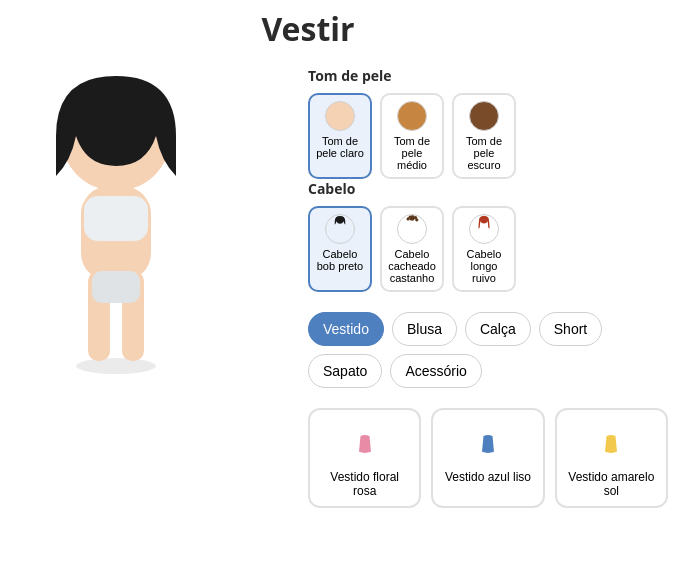
Fluxo de vestir o avatar (User Story 1) › selecionar um vestido substitui blusa e calça equipadas (FR-007)
Click the tab "Blusa": (424, 329) [392,312,457,346]
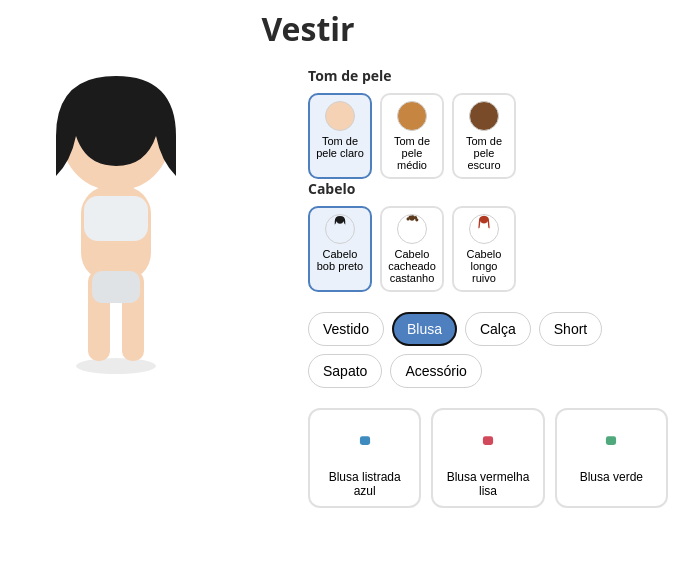
Click the button "Blusa listrada azul": (365, 458) [308,408,421,508]
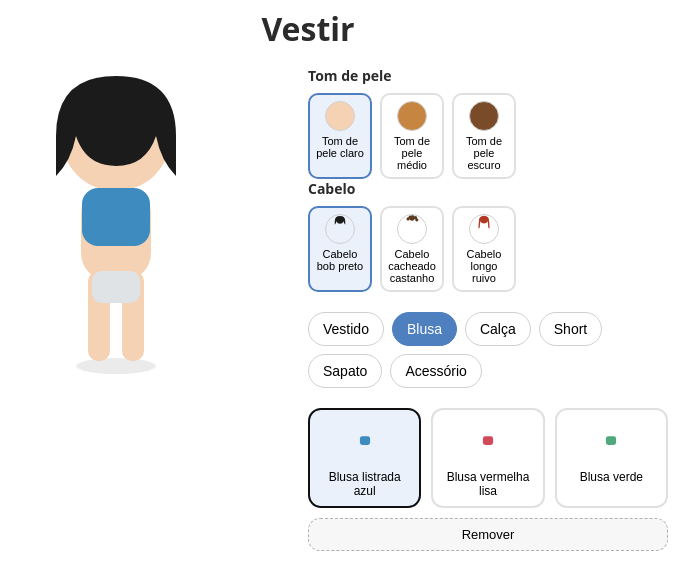
Click the tab "Calça": (498, 329) [465,312,531,346]
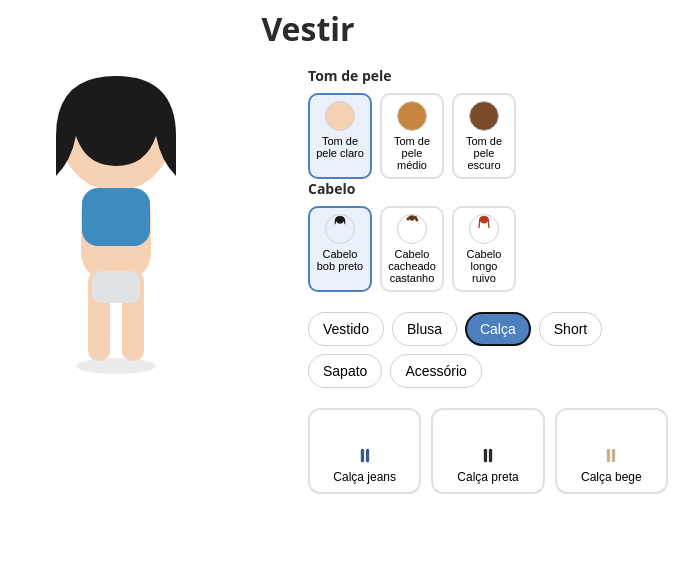
Click the button "Calça jeans": (365, 451) [308,408,421,494]
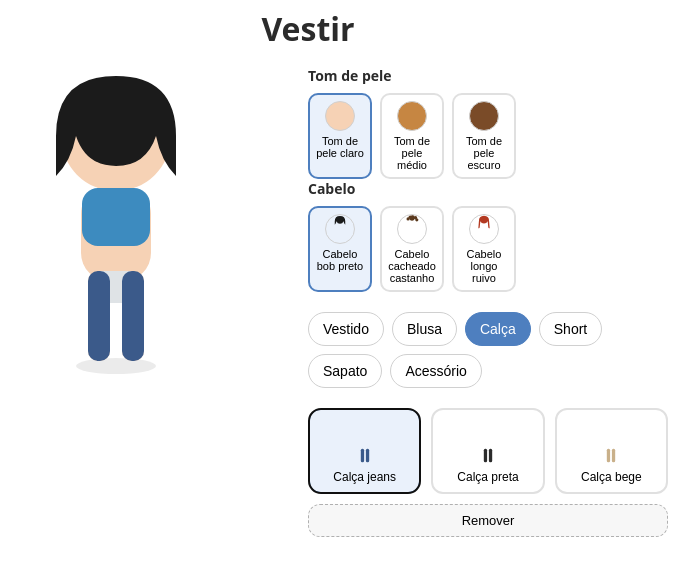
Click the tab "Vestido": (346, 329) [308,312,384,346]
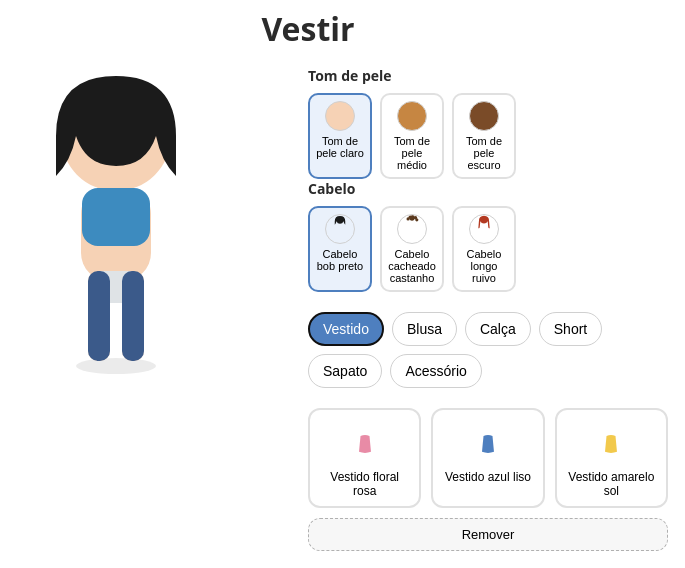
Click the button "Vestido floral rosa": (365, 458) [308,408,421,508]
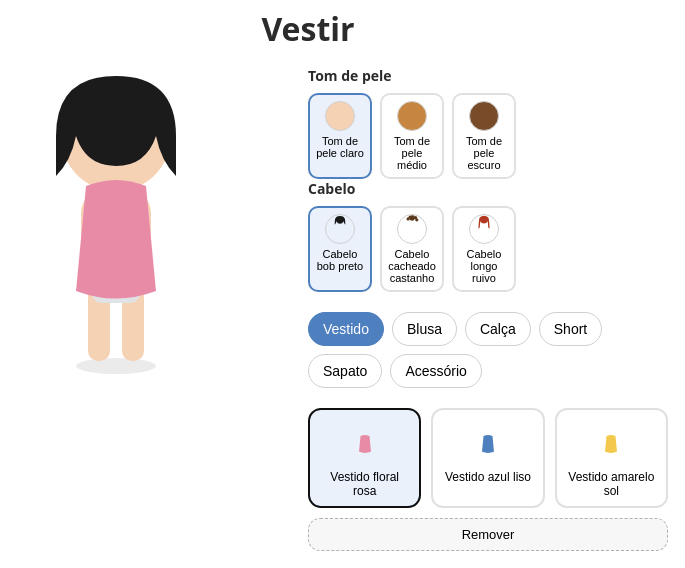
Result: the picture with test id "avatar-layer-bottom" is gone
